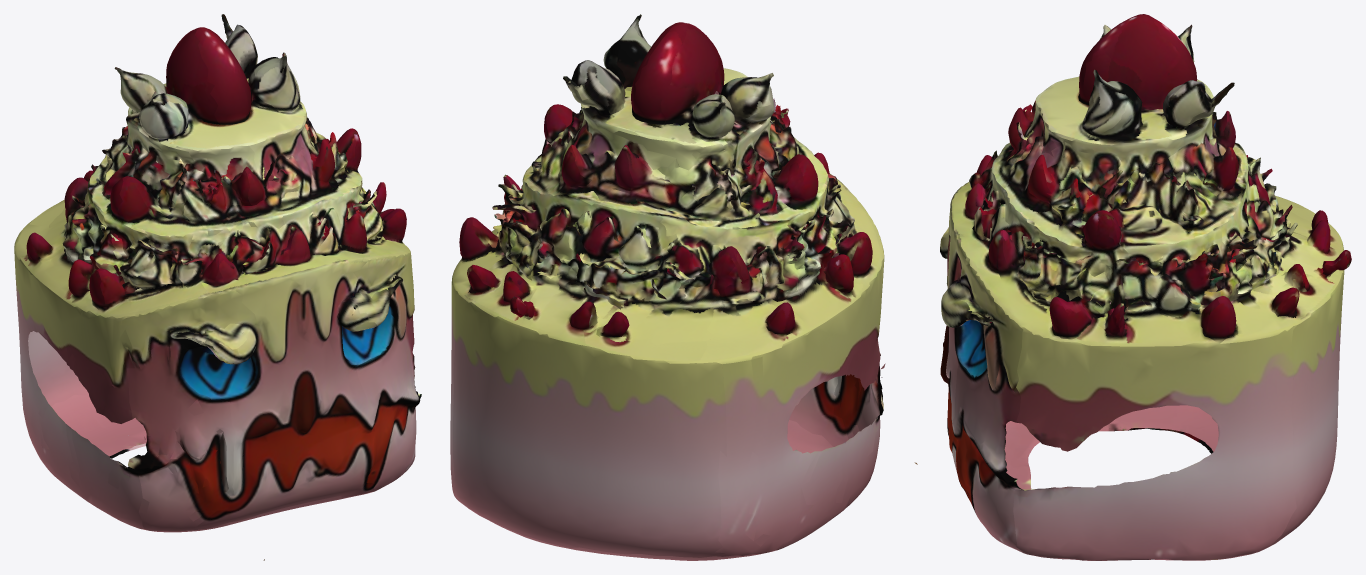
Rendered from enemy_cake_body.fbx.
3 views of the same model, side by side, from view 1: azimuth 30°, elevation 25°; view 2: azimuth 150°, elevation 25°; view 3: azimuth 270°, elevation 25° (orthographic). The views are drawn at different scales.
Visible parts, largest first — view 1: tmpc24ce_z0.ply; view 2: tmpc24ce_z0.ply; view 3: tmpc24ce_z0.ply.
Part boxes in pixels (<box>): tmpc24ce_z0.ply: <box>14,14,421,560</box>; tmpc24ce_z0.ply: <box>450,14,885,560</box>; tmpc24ce_z0.ply: <box>914,14,1351,560</box>.
Size of the model in its own units: 140 by 185 by 155.
